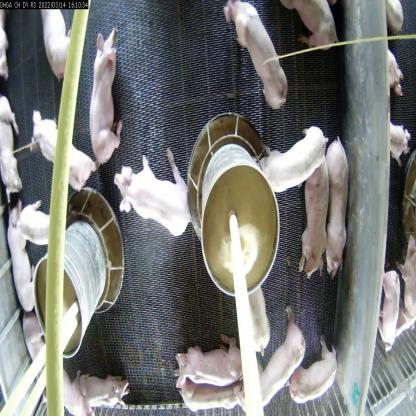Pig: (96, 134, 201, 254), (219, 0, 299, 120), (229, 306, 308, 416), (24, 107, 99, 194), (87, 27, 131, 168), (254, 123, 329, 194), (165, 325, 249, 386), (2, 197, 40, 319), (277, 0, 343, 63), (323, 133, 350, 282), (0, 86, 31, 213), (288, 337, 340, 410), (301, 148, 329, 283), (37, 356, 99, 416), (67, 362, 136, 413), (38, 8, 82, 86), (379, 260, 406, 370), (176, 376, 248, 415), (17, 307, 54, 381), (242, 286, 274, 368), (13, 204, 58, 259), (396, 230, 416, 338), (384, 114, 415, 164)
